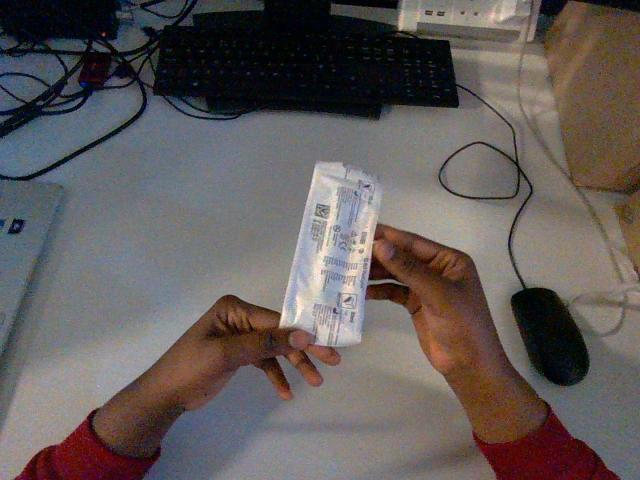syringe: (280, 162, 380, 346)
